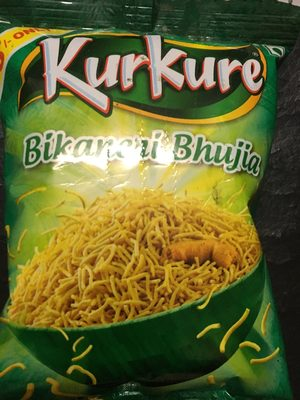kurkure: (34, 34, 269, 117)
plastic: (5, 29, 277, 394)
